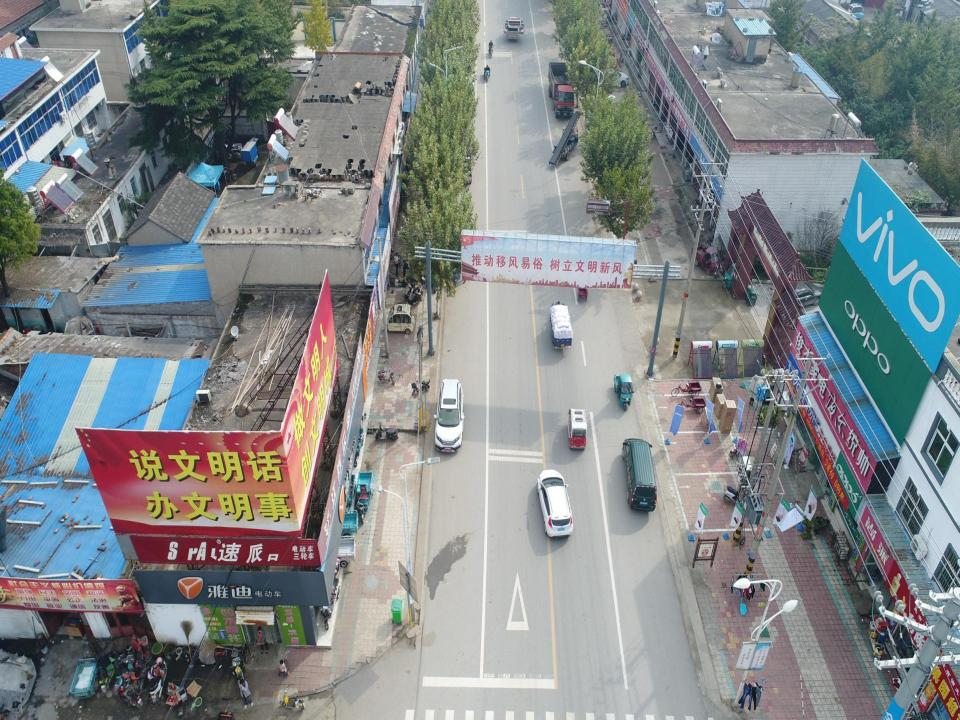car: (535, 464, 577, 543), (434, 377, 466, 454), (770, 273, 824, 315), (688, 244, 722, 278), (598, 68, 629, 89), (590, 55, 621, 75)
truck: (548, 59, 576, 118)
van: (620, 433, 661, 514)
